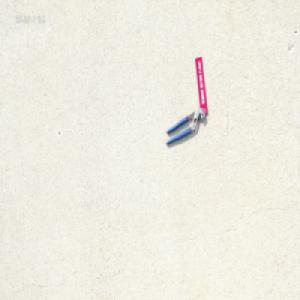Label: (195, 54, 208, 114)
Pliers: (165, 106, 205, 146)
